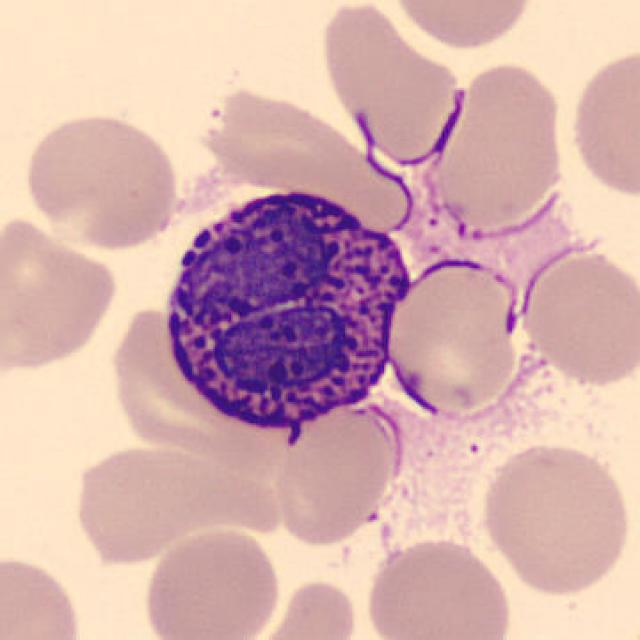Basophil: (151, 172, 418, 450)
RBC: (210, 85, 413, 236), (420, 56, 570, 235), (474, 439, 634, 598), (381, 252, 526, 418), (20, 108, 183, 252), (324, 5, 466, 162), (268, 393, 404, 548), (68, 441, 231, 566), (0, 212, 123, 376), (516, 245, 638, 390), (138, 522, 282, 640), (361, 534, 515, 640), (565, 42, 640, 201), (0, 548, 87, 640), (388, 0, 538, 51), (247, 575, 363, 640)
